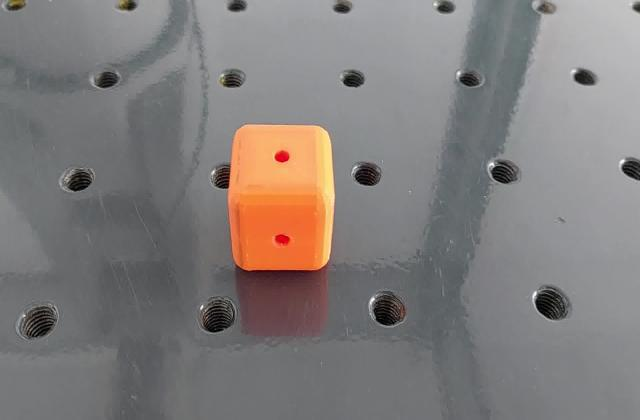cube: (224, 120, 336, 276)
